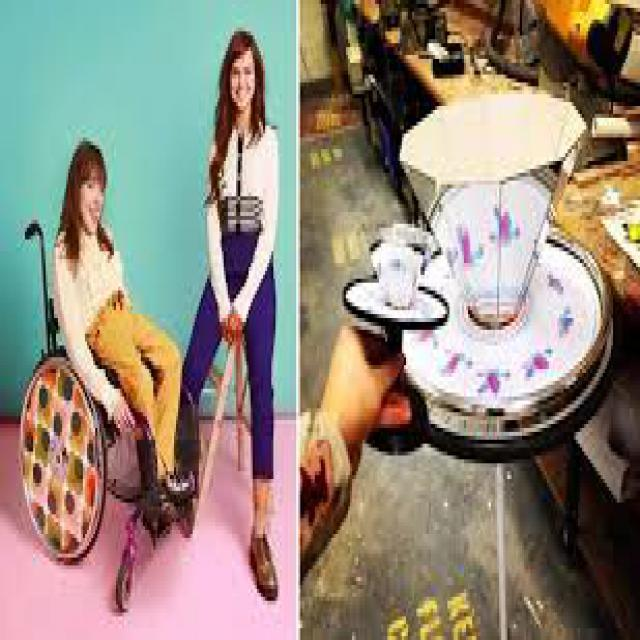wheelchairs: (12, 216, 192, 601)
